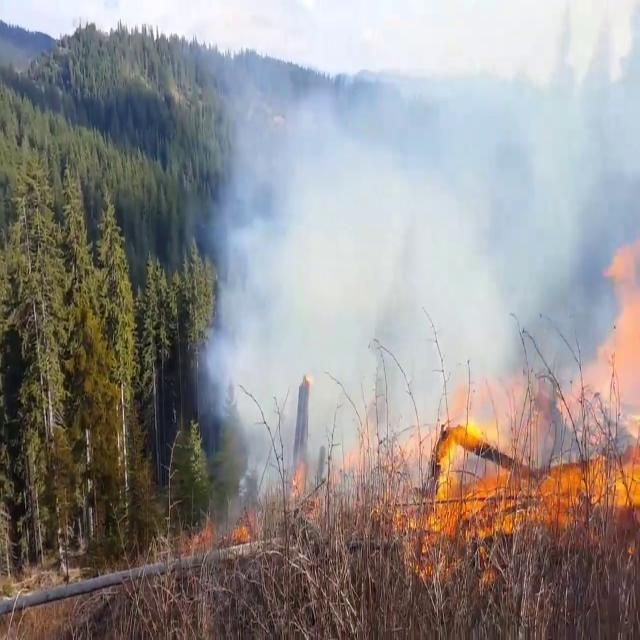Fire: (520, 252, 640, 529), (414, 390, 514, 580)
Smoke: (196, 0, 636, 510)
